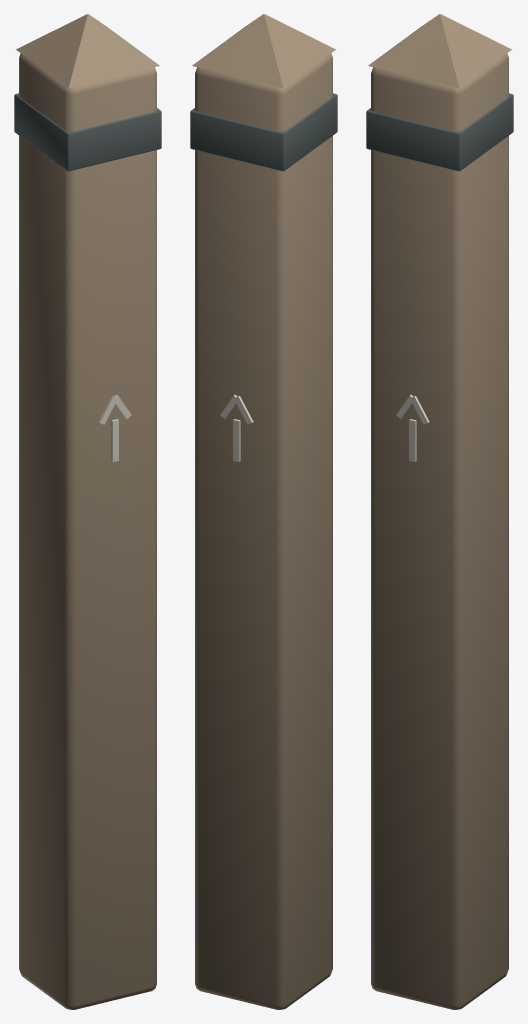
The model's file is trail_marker.glb.
3 renders of one model, left to right at view 1: azimuth 30°, elevation 25°; view 2: azimuth 150°, elevation 25°; view 3: azimuth 330°, elevation 25°, orthographic.
Visible parts, largest first — view 1: g_post, g_blaze, g_routed; view 2: g_post, g_blaze, g_routed; view 3: g_post, g_blaze, g_routed.
Part boxes in pixels (<box>): g_post: <box>16,14,159,1009</box>; g_blaze: <box>14,93,161,171</box>; g_routed: <box>98,394,131,461</box>; g_post: <box>192,14,335,1009</box>; g_blaze: <box>190,93,337,171</box>; g_routed: <box>220,394,253,461</box>; g_post: <box>368,14,511,1009</box>; g_blaze: <box>366,93,513,171</box>; g_routed: <box>396,394,429,461</box>.
Size of the model in its own units: 0.154 by 1.52 by 0.158.
